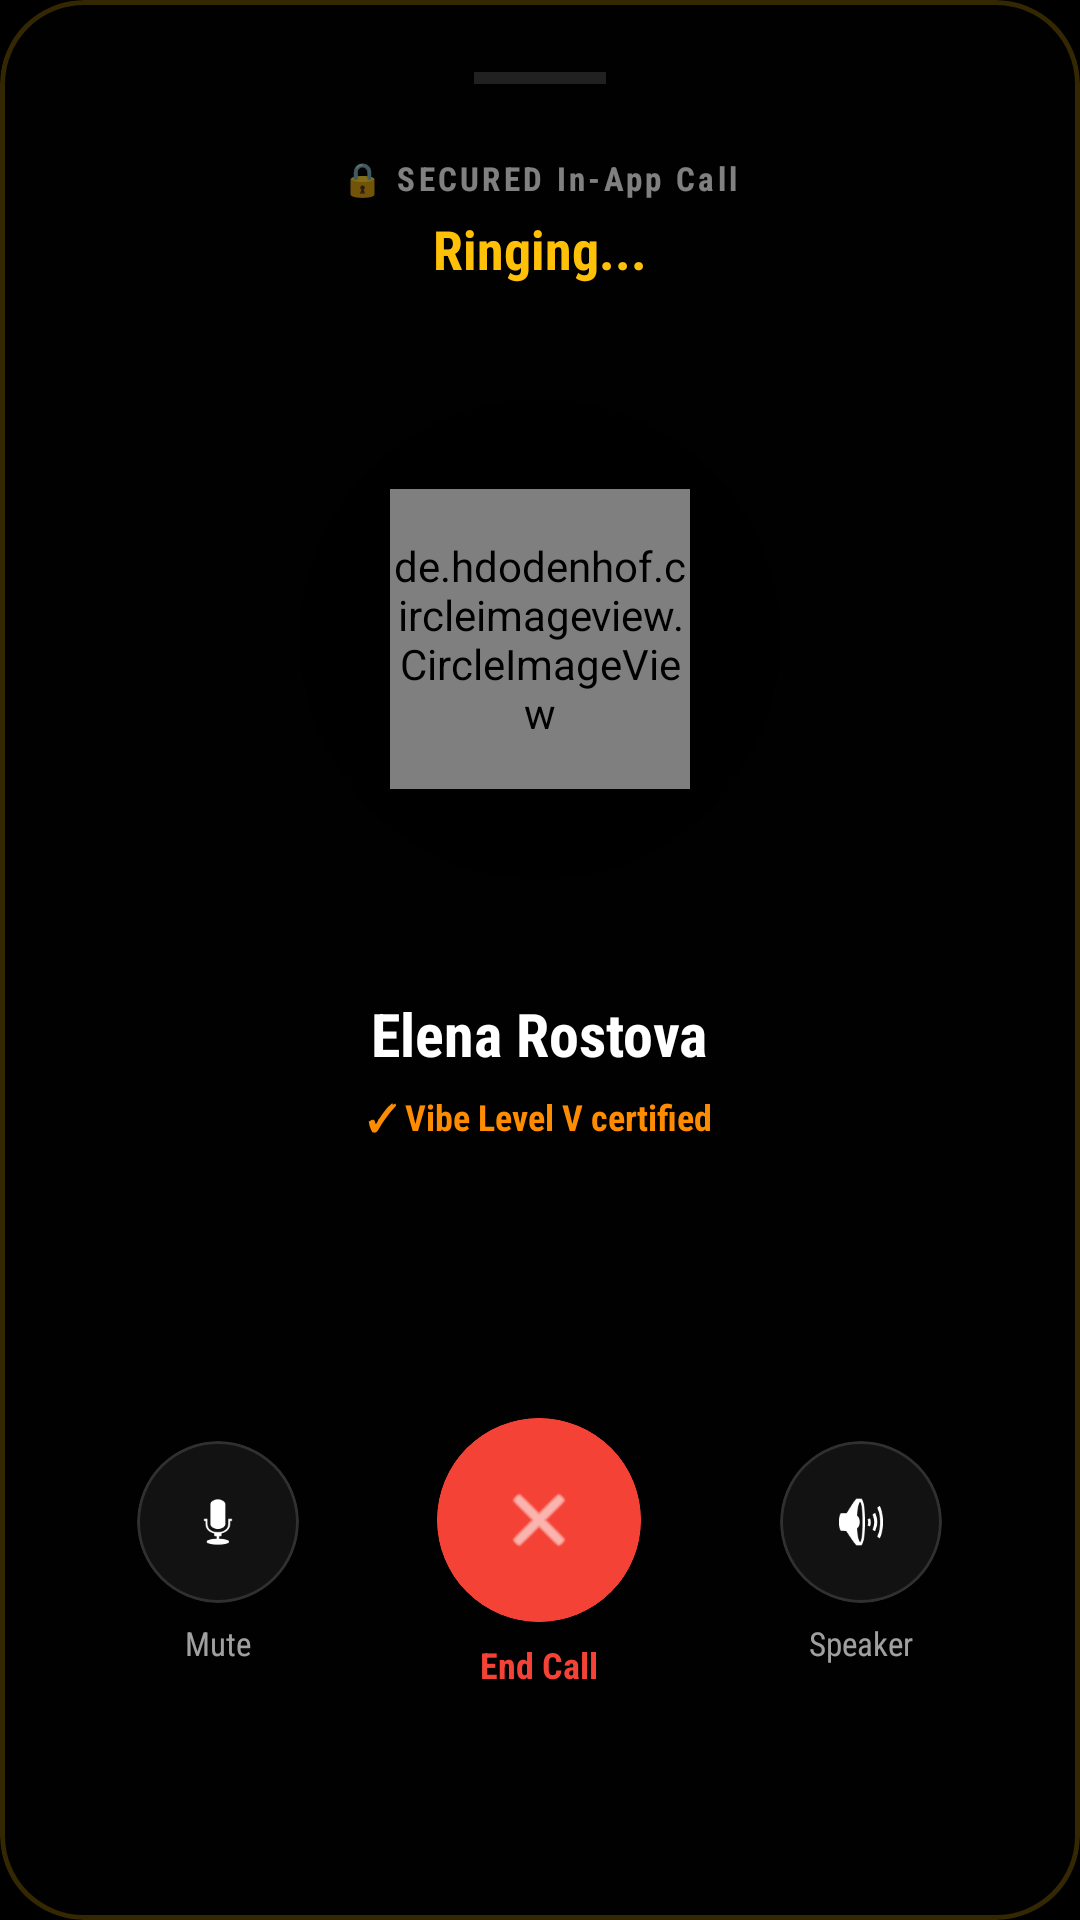

Named icons in this screenshot (1080px×1920px) and their centers, point (x, y):
close clear cancel: point (539, 1520)
speak now: point (218, 1522)
